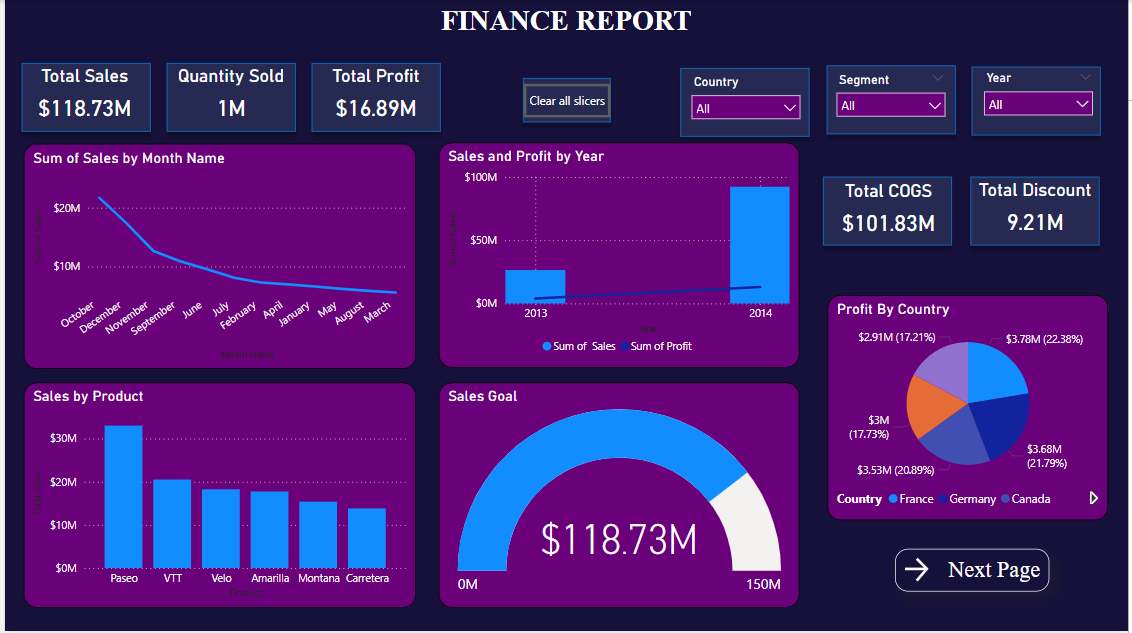

This screenshot's page, from the dashboard's own definition file:
{"tool":"powerbi","page":{"name":"Dashboard","canvas":[1280,720],"ordinal":0},"visuals":[{"type":"textbox","box":[487.4,0,305.2,50.7],"z":0},{"type":"shape","box":[9.7,62.7,165.3,96.5],"z":1000},{"type":"shape","box":[340.2,62.7,165.3,96.5],"z":2000},{"type":"shape","box":[174.9,62.7,165.3,96.5],"z":3000},{"type":"card","title":"Total Sales","fields":{"Values":["financials.Total Sales"]},"box":[18.1,74.8,144.8,73.6],"z":4000},{"type":"card","title":"Quantity Sold","fields":{"Values":["financials.Total Quanity Sold"]},"box":[185.8,74.8,144.8,73.6],"z":5000},{"type":"card","title":"Total Profit","fields":{"Values":["financials.Total Profit"]},"box":[351.1,74.8,144.8,73.6],"z":6000},{"type":"shape","box":[761,67.8,165.3,96.5],"z":7000},{"type":"slicer","title":"Total Sales","fields":{"Values":["financials.Country"]},"box":[773.1,79.9,144.8,73.6],"z":8000},{"type":"shape","box":[1093,67.6,165.3,96.5],"z":9000},{"type":"slicer","title":"Total Sales","fields":{"Values":["financials.Year"]},"box":[1106.8,75.8,144.8,73.6],"z":10000},{"type":"shape","box":[927.5,65.9,165.3,96.5],"z":11000},{"type":"slicer","title":"Total Sales","fields":{"Values":["financials.Segment"]},"box":[938.4,76.7,144.8,73.6],"z":12000},{"type":"shape","box":[581.5,79.9,118.2,68.8],"z":13000},{"type":"actionButton","box":[591.2,95.6,98.9,38.6],"z":14000},{"type":"lineChart","fields":{"Category":["financials.Month Name"],"Y":["Sum(financials. Sales)"]},"box":[21.4,164.3,447.1,257.1],"z":15000},{"type":"clusteredColumnChart","title":"Sales by Product","fields":{"Category":["financials.Product"],"Y":["financials.Total Sales"]},"box":[21.4,435.7,447.1,257.1],"z":16000},{"type":"lineStackedColumnComboChart","title":"Sales and  Profit by Year","fields":{"Y":["Sum(financials. Sales)"],"Category":["financials.Year"],"Y2":["Sum(financials.Profit)"]},"box":[494.3,162.9,411.4,257.1],"z":17000},{"type":"gauge","title":"Sales Goal","fields":{"Y":["Sum(financials. Sales)"],"MaxValue":["financials.Sales to be achieved"],"MinValue":["financials.minimum value"]},"box":[494.3,435.7,411.4,257.1],"z":18000},{"type":"pieChart","title":"Profit By Country","fields":{"Category":["financials.Country"],"Y":["Sum(financials.Profit)"]},"box":[935.1,307.9,320.7,256.6],"z":19000},{"type":"actionButton","box":[1014.3,625.7,175.7,48.6],"z":20000},{"type":"shape","box":[924.4,192.7,165.3,96.5],"z":21000},{"type":"card","title":"Total COGS","fields":{"Values":["Sum(financials.COGS)"]},"box":[935.2,204.8,144.8,73.6],"z":22000},{"type":"shape","box":[1091.2,192.7,165.3,96.5],"z":23000},{"type":"card","title":"Total Discount","fields":{"Values":["Sum(financials.Discounts)"]},"box":[1101.4,204.3,145.7,74.3],"z":24000}]}

Visuals, with their boxes in screenshot pixels (x1, y1, x2, y2), scaled from the page's 1280x720 canvas onto the 1132x633 screenshot:
textbox: l=431, t=0, r=701, b=45
shape: l=9, t=55, r=155, b=140
shape: l=301, t=55, r=447, b=140
shape: l=155, t=55, r=301, b=140
"Total Sales" card: l=16, t=66, r=144, b=130
"Quantity Sold" card: l=164, t=66, r=292, b=130
"Total Profit" card: l=311, t=66, r=439, b=130
shape: l=673, t=60, r=819, b=144
"Total Sales" slicer: l=684, t=70, r=812, b=135
shape: l=967, t=59, r=1113, b=144
"Total Sales" slicer: l=979, t=67, r=1107, b=131
shape: l=820, t=58, r=966, b=143
"Total Sales" slicer: l=830, t=67, r=958, b=132
shape: l=514, t=70, r=619, b=131
actionButton: l=523, t=84, r=610, b=118
lineChart - financials.Month Name x Sum(financials. Sales): l=19, t=144, r=414, b=370
"Sales by Product" clusteredColumnChart: l=19, t=383, r=414, b=609
"Sales and  Profit by Year" lineStackedColumnComboChart: l=437, t=143, r=801, b=369
"Sales Goal" gauge: l=437, t=383, r=801, b=609
"Profit By Country" pieChart: l=827, t=271, r=1111, b=496
actionButton: l=897, t=550, r=1052, b=593
shape: l=818, t=169, r=964, b=254
"Total COGS" card: l=827, t=180, r=955, b=245
shape: l=965, t=169, r=1111, b=254
"Total Discount" card: l=974, t=180, r=1103, b=245
